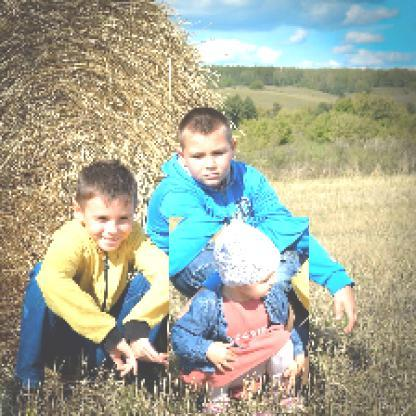child: (11, 160, 190, 404), (170, 218, 311, 415)
